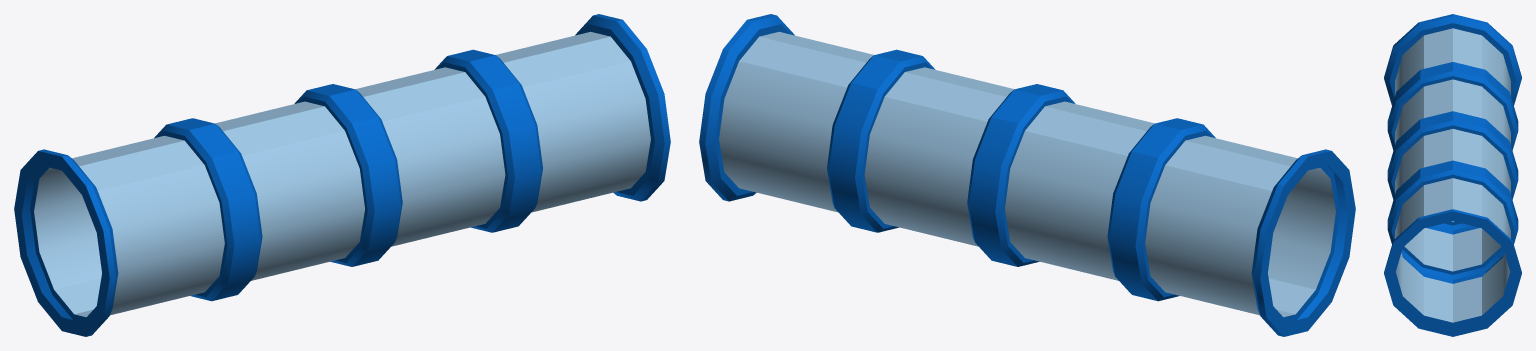
File: Vent_Tubes.fbx
The picture shows the model from 3 angles, left to right: view 1: azimuth 30°, elevation 25°; view 2: azimuth 150°, elevation 25°; view 3: azimuth 270°, elevation 25°; orthographic projection. The views are drawn at different scales.
Visible parts, largest first — view 1: Vent_Tubes; view 2: Vent_Tubes; view 3: Vent_Tubes.
Boxes of the visible parts, x1,y1,x2,y2 form: Vent_Tubes: [14, 14, 670, 336]; Vent_Tubes: [699, 14, 1355, 336]; Vent_Tubes: [1384, 14, 1521, 336].
Bounding box in the file's own units: 4 × 1.19 × 1.18.
